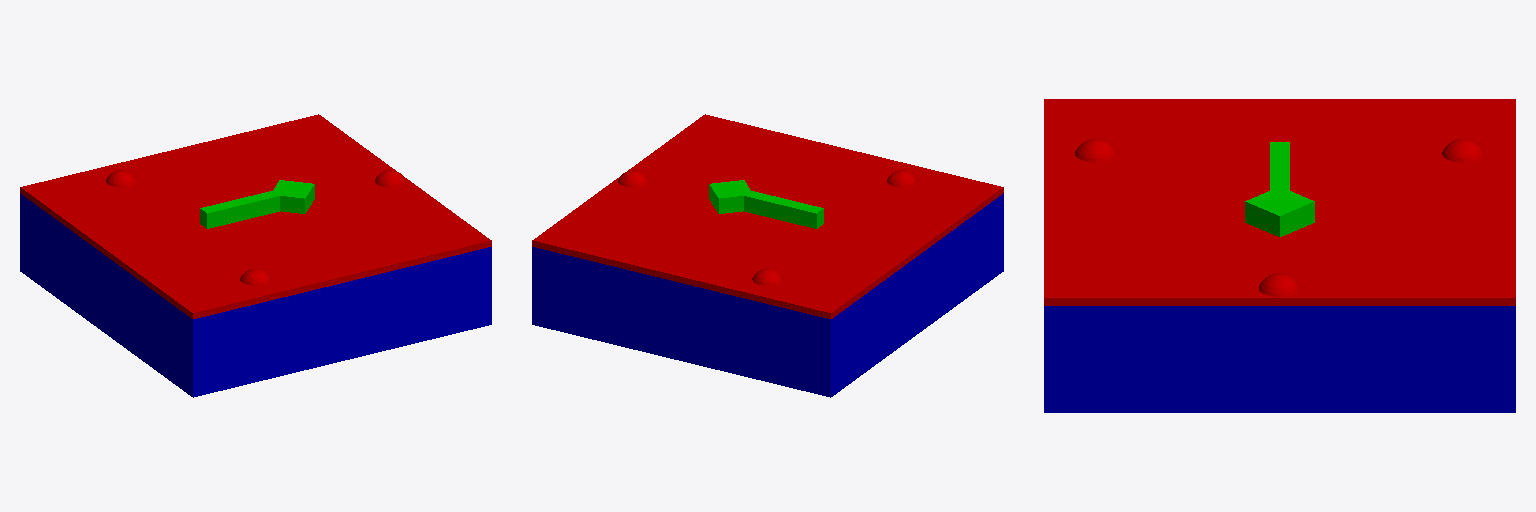
robot.urdf — starling2max_tether_payload:
<?xml version="1.0" ?>
<!-- GENERATED by starling2max/generate.py from config/ - Edit the template instead -->
<robot name="starling2max_tether_payload">
    <material name="blue"><color rgba="0 0 0.8 1"/></material>
    <material name="red"><color rgba="0.8 0 0 1"/></material>
    <material name="green"><color rgba="0 0.8 0 1"/></material>

    <link name="payload">
        <inertial>
            <origin xyz="0 0 0" rpy="0 0 0"/>
            <mass value="0.4"/>
            <inertia ixx="0.00141667" ixy="0" ixz="0" iyy="0.00141667" iyz="0" izz="0.00266667"/>
        </inertial>
        <visual name="body">
            <origin xyz="0 0 0" rpy="0 0 0"/>
            <geometry><box size="0.2 0.2 0.05"/></geometry>
            <material name="blue"/>
        </visual>
        <visual name="top_panel">
            <origin xyz="0 0 0.027" rpy="0 0 0"/>
            <geometry><box size="0.2 0.2 0.004"/></geometry>
            <material name="red"/>
        </visual>
        <visual name="arrow_shaft">
            <origin xyz="-0.0105 0 0.034" rpy="0 0 0"/>
            <geometry><box size="0.049 0.0084 0.01"/></geometry>
            <material name="green"/>
        </visual>
        <visual name="arrow_head">
            <origin xyz="0.0245 0 0.034" rpy="0 0 0.785398"/>
            <geometry><box size="0.021 0.021 0.01"/></geometry>
            <material name="green"/>
        </visual>
        <collision>
            <origin xyz="0 0 0" rpy="0 0 0"/>
            <geometry><box size="0.2 0.2 0.05"/></geometry>
        </collision>
    </link>

    <link name="attach0_link">
        <visual><geometry><sphere radius="0.01"/></geometry><material name="red"/></visual>
    </link>
    <joint name="attach0_joint" type="fixed">
        <origin xyz="0.09 0 0.025" rpy="0 0 0"/>
        <parent link="payload"/>
        <child link="attach0_link"/>
    </joint>
    <link name="attach1_link">
        <visual><geometry><sphere radius="0.01"/></geometry><material name="red"/></visual>
    </link>
    <joint name="attach1_joint" type="fixed">
        <origin xyz="-0.045 0.0779423 0.025" rpy="0 0 0"/>
        <parent link="payload"/>
        <child link="attach1_link"/>
    </joint>
    <link name="attach2_link">
        <visual><geometry><sphere radius="0.01"/></geometry><material name="red"/></visual>
    </link>
    <joint name="attach2_joint" type="fixed">
        <origin xyz="-0.045 -0.0779423 0.025" rpy="0 0 0"/>
        <parent link="payload"/>
        <child link="attach2_link"/>
    </joint>
</robot>

--- Facts derived from the render (not from the file) ---
The picture shows the robot from 3 angles, left to right: view 1: azimuth 30°, elevation 25°; view 2: azimuth 150°, elevation 25°; view 3: azimuth 270°, elevation 25°; orthographic projection.
Model starling2max_tether_payload with 4 links and 3 joints (3 fixed), rooted at payload, posed all joints at 0.
Visible links, largest first — view 1: payload; view 2: payload; view 3: payload, attach1_link, attach2_link, attach0_link.
Link boxes in pixels (x1,y1,x2,y2): payload: (20, 114, 491, 397); payload: (532, 114, 1003, 397); payload: (1044, 99, 1515, 412); attach1_link: (1442, 139, 1484, 162); attach2_link: (1075, 139, 1117, 162); attach0_link: (1259, 273, 1300, 296).
Bounding box of the posed robot: 0.2 × 0.2 × 0.064 m (x, y, z).
Geometry: primitives only (box / cylinder / sphere), no mesh files.
